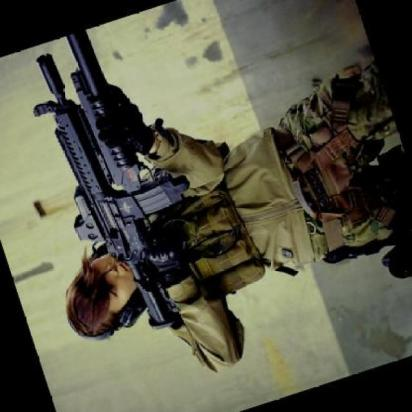Gun: (18, 18, 215, 348)
